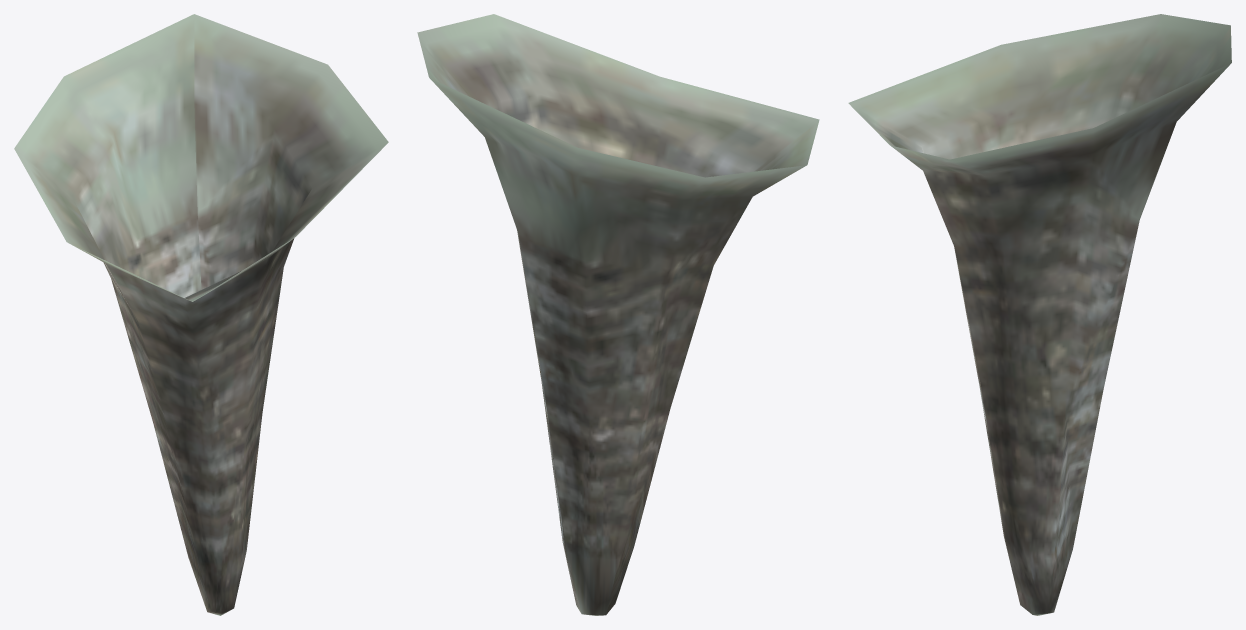
Rendered from TROLLHOLE02_PS-UPPERSTALAG30.fbx.
3 renders of one model, left to right at view 1: azimuth 30°, elevation 25°; view 2: azimuth 150°, elevation 25°; view 3: azimuth 270°, elevation 25°, orthographic. The views are drawn at different scales.
Parts seen in each view (by area): view 1: TROLLHOLE02_PS-UPPERSTALAG30; view 2: TROLLHOLE02_PS-UPPERSTALAG30; view 3: TROLLHOLE02_PS-UPPERSTALAG30.
Part boxes in pixels (x1,y1,x2,y2): TROLLHOLE02_PS-UPPERSTALAG30: (14, 14, 388, 615); TROLLHOLE02_PS-UPPERSTALAG30: (417, 14, 819, 615); TROLLHOLE02_PS-UPPERSTALAG30: (848, 14, 1231, 615).
Bounding box in the file's own units: 10400 × 17189 × 10202.
1 material, 1 textured.
